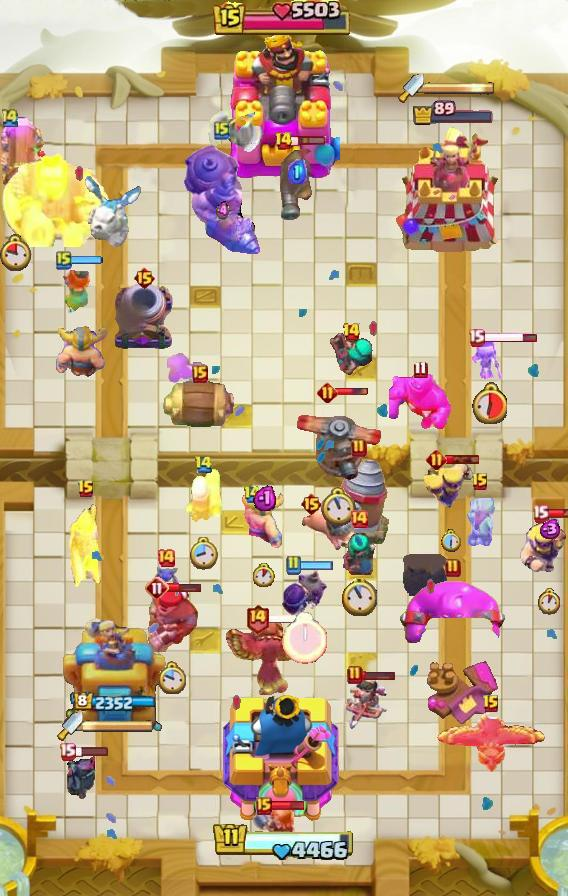axe: (207, 97, 263, 155)
bar: (483, 331, 538, 344), (290, 135, 327, 147), (73, 745, 109, 757), (267, 613, 304, 624), (270, 800, 305, 811), (361, 670, 396, 681), (167, 582, 202, 593), (299, 560, 334, 571), (445, 454, 480, 465), (335, 387, 369, 397), (70, 255, 104, 265), (546, 507, 568, 519)
bar-level: (245, 603, 270, 634), (145, 576, 169, 600), (300, 492, 323, 516), (133, 266, 156, 290), (426, 449, 447, 470), (317, 382, 338, 403), (0, 107, 20, 128), (156, 548, 176, 568), (349, 509, 369, 529), (342, 322, 361, 342), (274, 131, 293, 151), (243, 485, 262, 504), (194, 455, 213, 474), (482, 694, 500, 714), (77, 479, 95, 499), (471, 472, 489, 492), (59, 742, 76, 761), (532, 504, 549, 523), (468, 328, 485, 347), (347, 665, 363, 685), (445, 558, 461, 578), (285, 555, 301, 575), (351, 438, 367, 458), (56, 250, 72, 270), (214, 120, 230, 140), (256, 797, 272, 815), (192, 365, 208, 383), (413, 360, 428, 379)
barbarian-barrel: (162, 381, 238, 431)
barbarian-evolution: (519, 517, 568, 574), (424, 458, 476, 508)
bat-evolution: (150, 561, 182, 603)
bomb: (403, 554, 447, 596)
bomber-evolution: (281, 568, 327, 626)
clock: (282, 612, 327, 664), (471, 382, 507, 424), (321, 487, 356, 527), (342, 577, 377, 616), (0, 234, 32, 271), (157, 661, 186, 696), (189, 537, 218, 571), (537, 588, 562, 615), (253, 563, 275, 587), (440, 529, 461, 552)
dagger-duchess-tower: (394, 126, 512, 256), (62, 615, 167, 731)
dagger-duchess-tower-bar: (83, 719, 155, 733), (424, 81, 496, 95)
elite-barbarian: (53, 326, 109, 380), (242, 492, 286, 548)
elixir: (253, 484, 276, 511), (537, 519, 561, 539), (288, 159, 307, 184), (216, 201, 229, 221)
elixir-golem-mid: (389, 370, 451, 430)
firecracker: (182, 466, 224, 524)
goblin: (465, 497, 495, 547)
hunter: (142, 588, 200, 652)
king-tower: (228, 29, 340, 181), (223, 689, 345, 826)
king-tower-bar: (212, 821, 356, 863), (213, 0, 355, 38)
mini-pekka: (65, 753, 98, 800)
mortar-evolution: (112, 282, 176, 352)
musketeer: (67, 502, 105, 600), (278, 144, 316, 222)
princess: (342, 671, 390, 733)
rascal-girl: (328, 332, 374, 378), (340, 531, 378, 577)
royal-hog: (302, 503, 354, 553)
skeleton-evolution: (471, 339, 507, 379)
tower-bar: (412, 100, 495, 126), (73, 692, 156, 713)
valkyrie: (250, 806, 298, 856), (57, 265, 95, 317)
